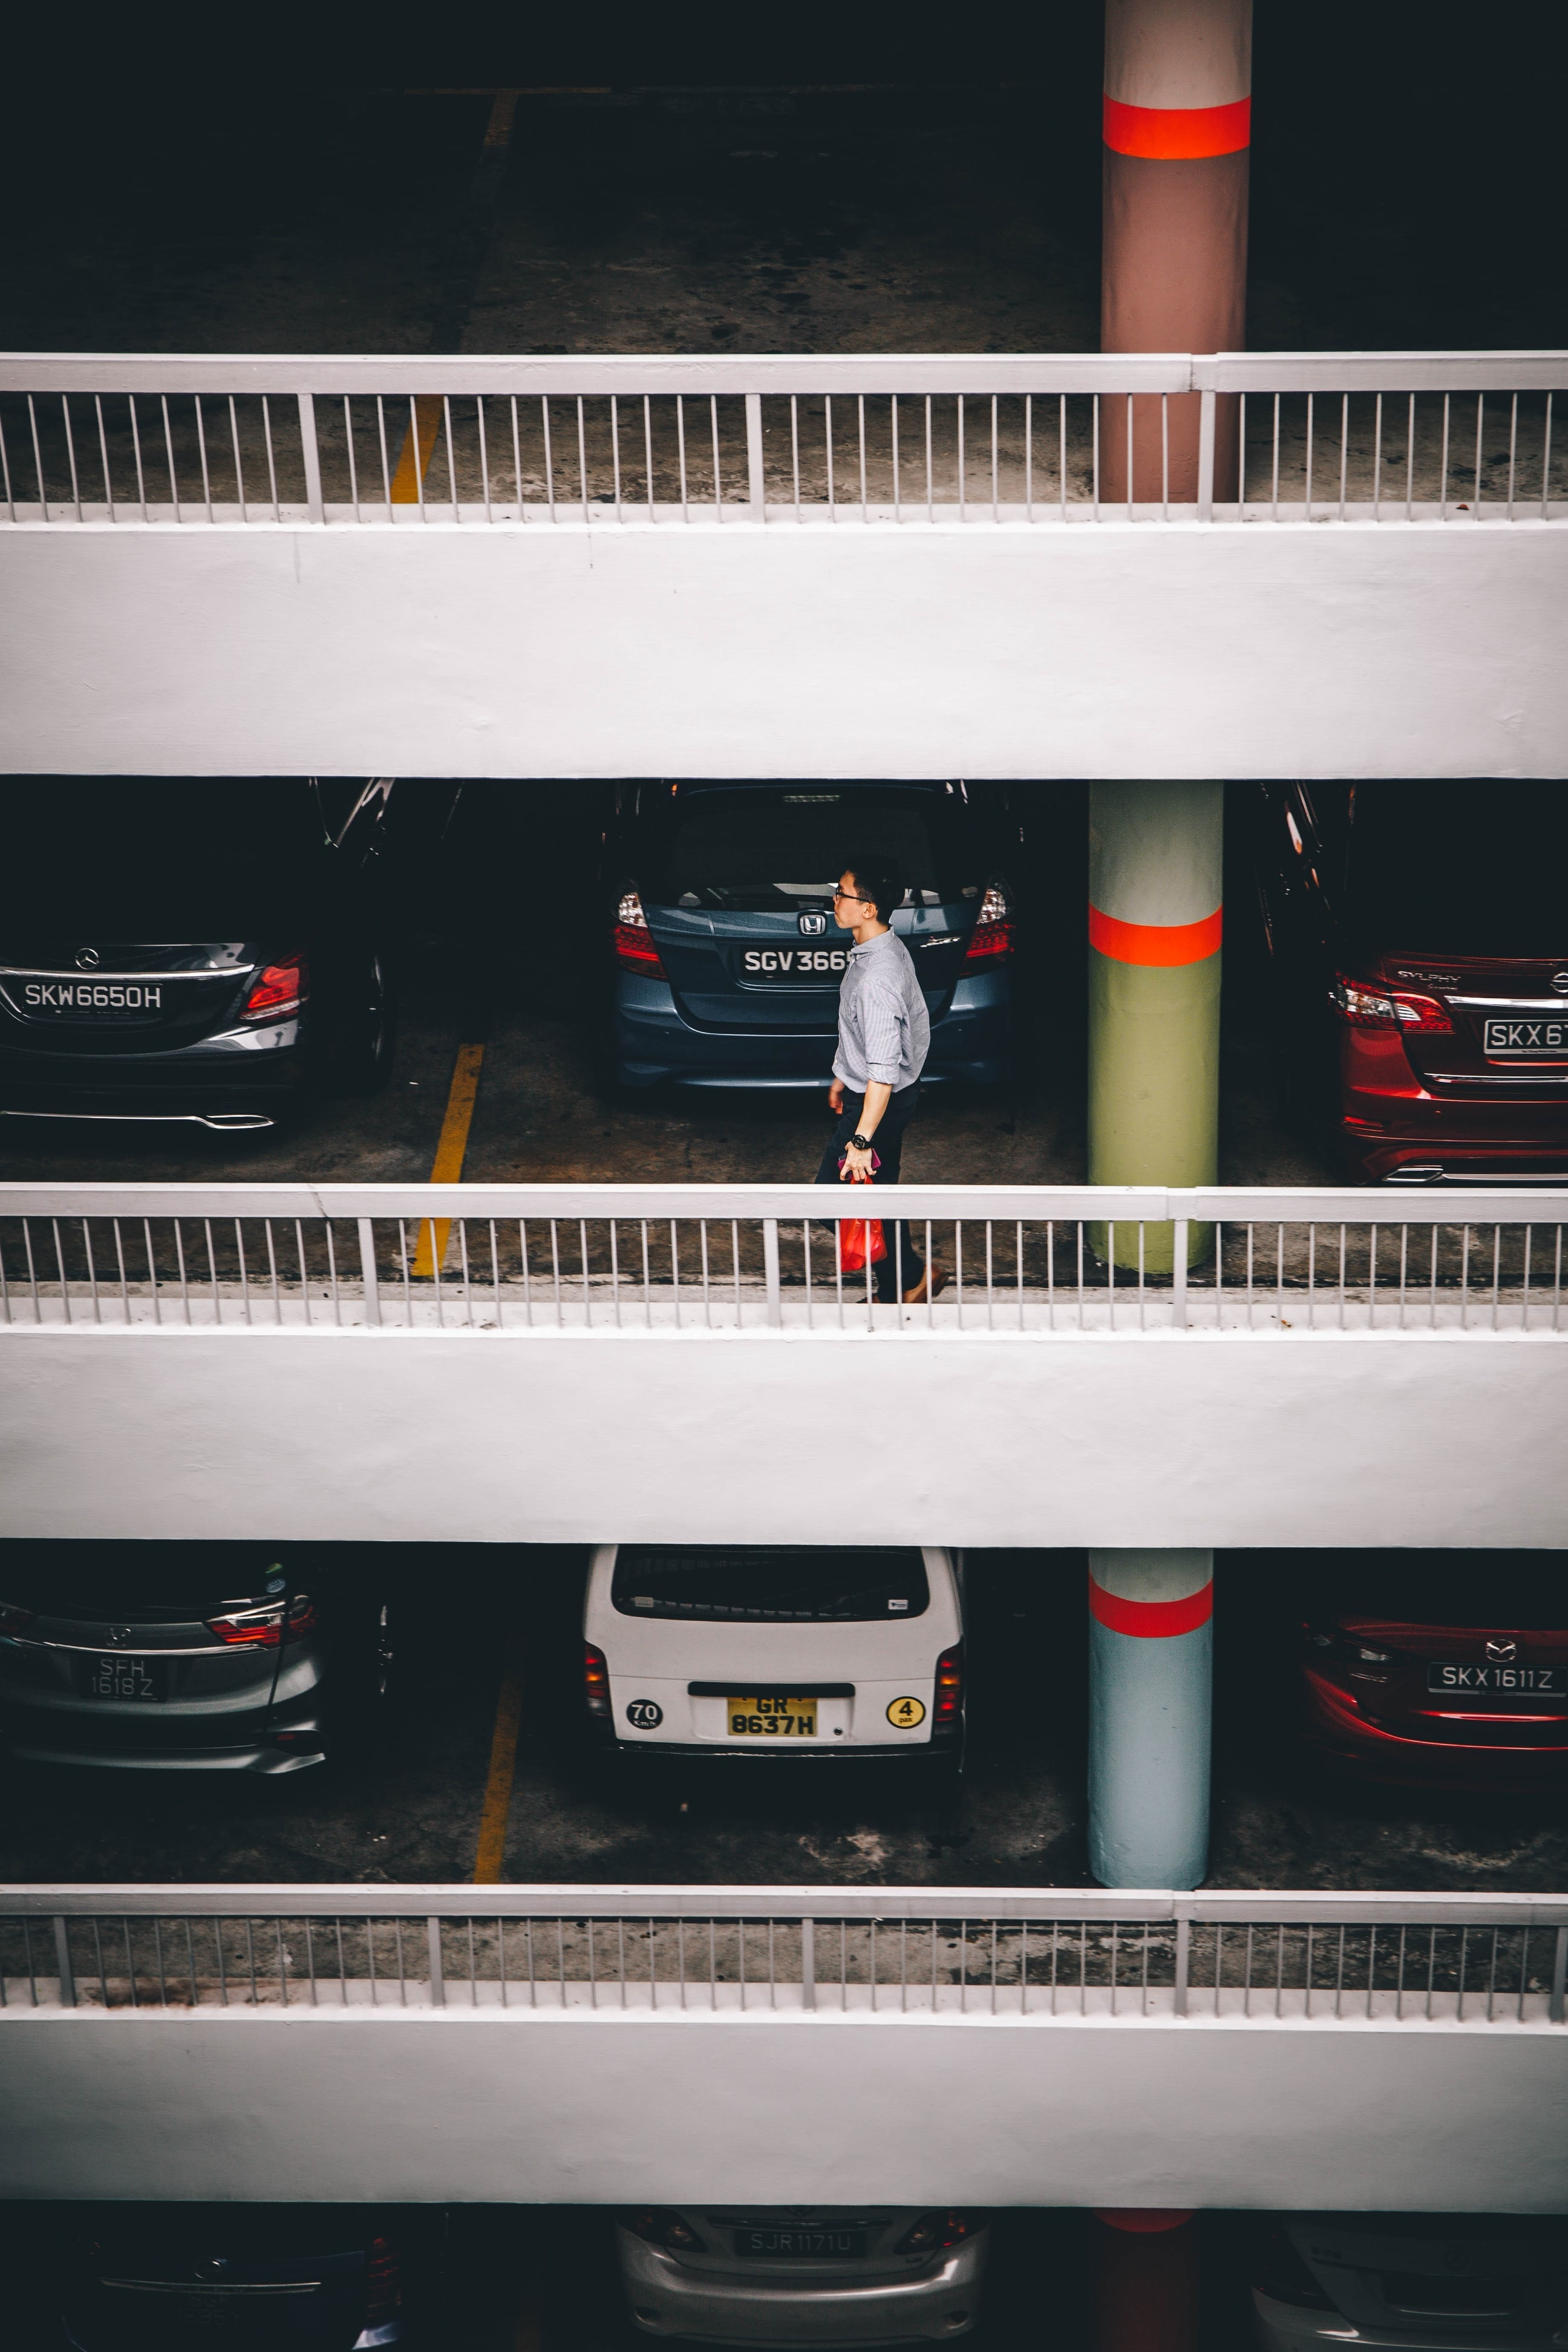plaka: (17, 978, 165, 1018), (1425, 1661, 1568, 1697), (721, 1693, 820, 1737)
